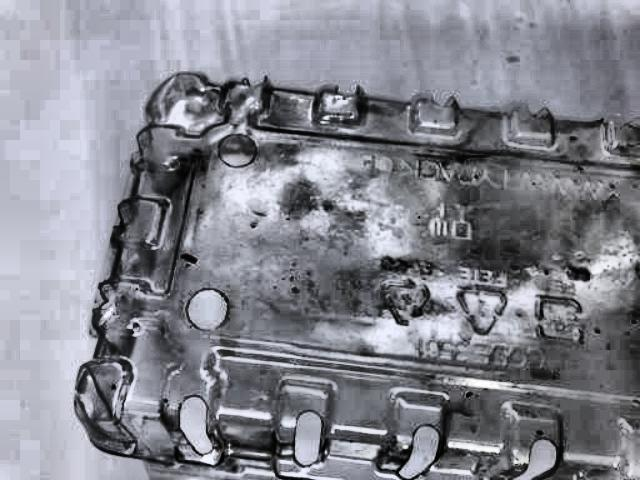Plastic: (76, 67, 640, 480)
